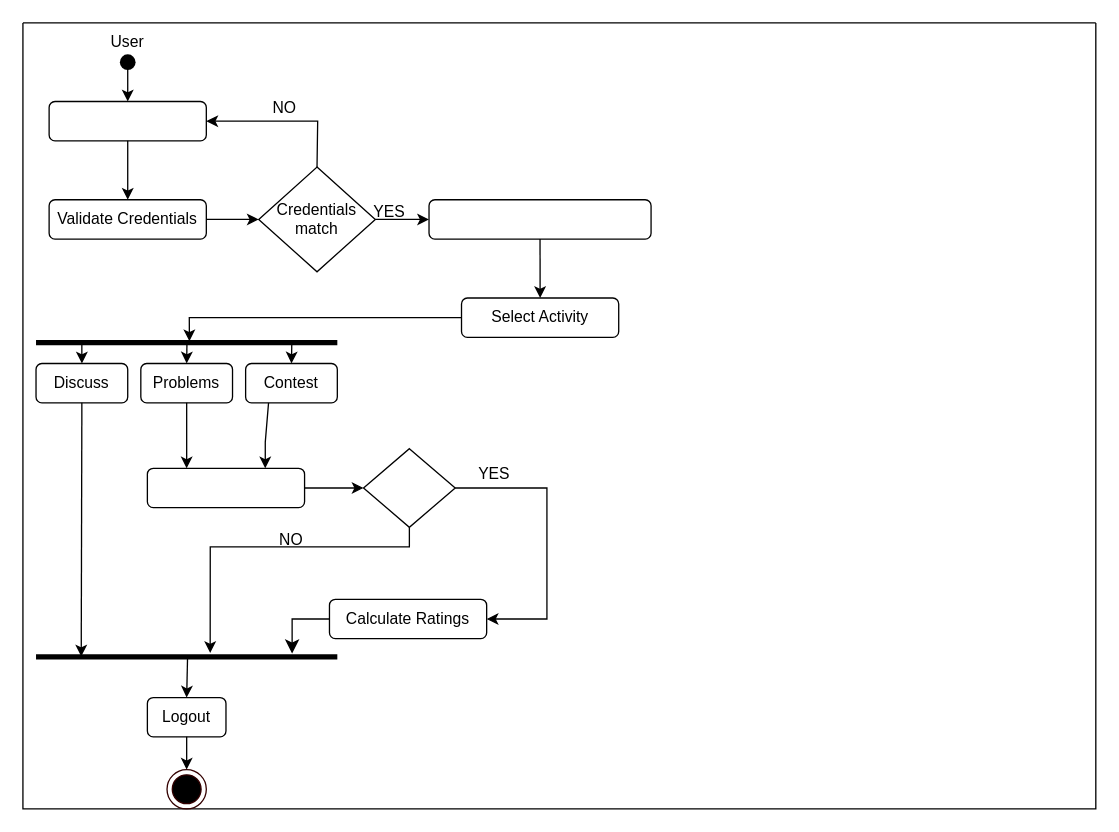
This 1119x832 diagram has some shape labels left out. The centre of each missing label's shape, as x and y in pixels:
"Access AlgoArena Platform" belongs at (x=539, y=218).
"Evaluate Problem" belongs at (x=225, y=487).
"is it a contest" belongs at (x=408, y=487).
"Signup/Login" belongs at (x=127, y=120).
